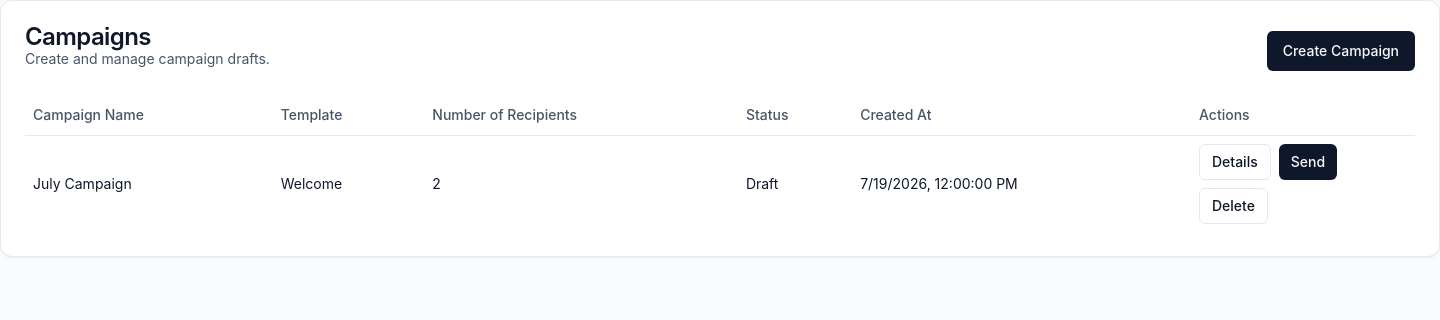
Test case: CampaignsPage › sends draft campaign and refreshes list
Click the button "Send" at (1308, 162), box [1279,144,1337,180]
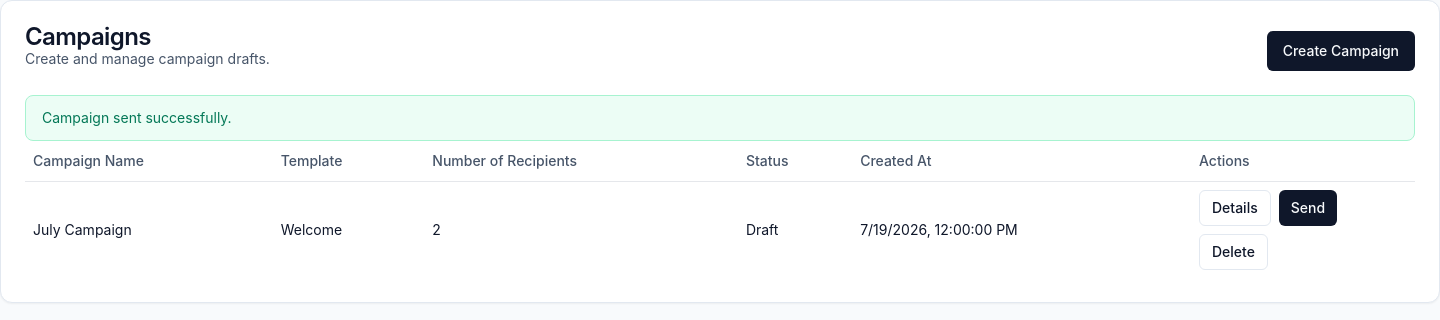
expect the text "Campaign sent successfully." is shown: met, box [25,95,1415,141]
